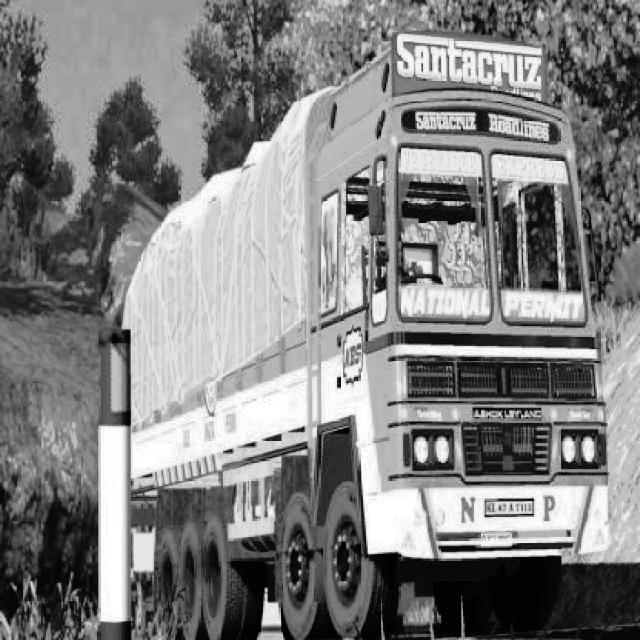HCV: (123, 44, 627, 610)
